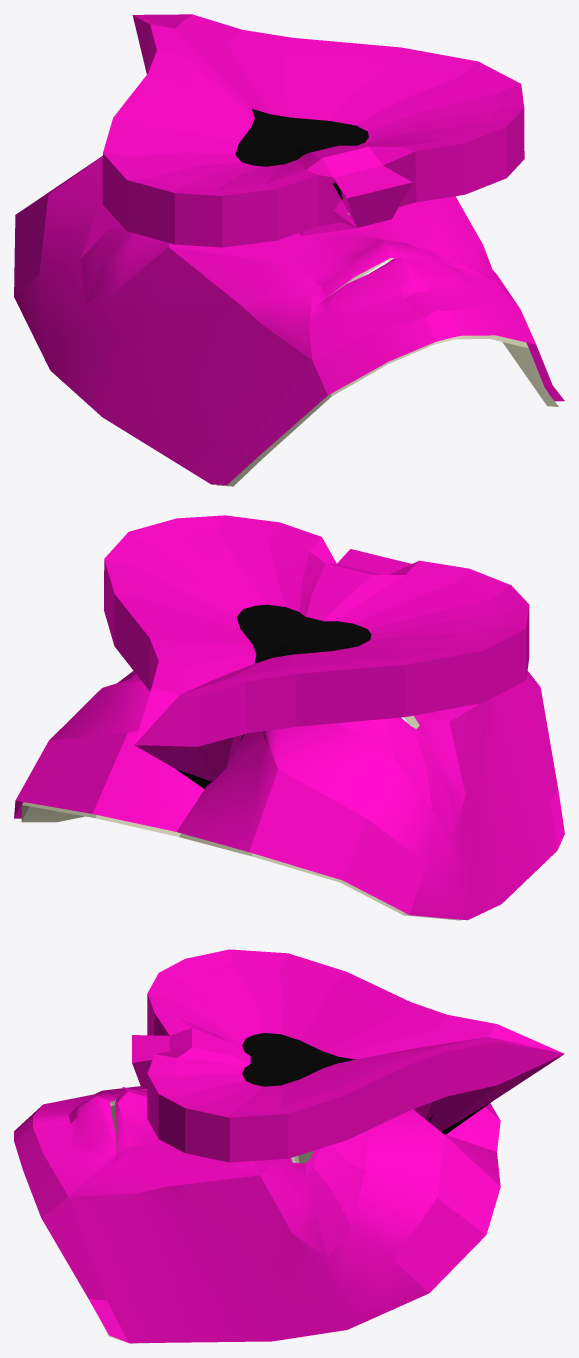
The model's file is Base_Mesh_SpadeMask.fbx.
The picture shows the model from 3 angles, top to bottom: view 1: azimuth 30°, elevation 25°; view 2: azimuth 150°, elevation 25°; view 3: azimuth 270°, elevation 25°; orthographic projection. The views are drawn at different scales.
Visible parts, largest first — view 1: Outline_Spade, Spade_Mask; view 2: Outline_Spade, Spade_Mask; view 3: Outline_Spade, Spade_Mask.
Part boxes in pixels (bbox=[...]): Outline_Spade: bbox=[14, 14, 564, 484]; Spade_Mask: bbox=[216, 109, 558, 486]; Outline_Spade: bbox=[14, 515, 564, 920]; Spade_Mask: bbox=[21, 604, 461, 920]; Outline_Spade: bbox=[14, 949, 564, 1343]; Spade_Mask: bbox=[100, 1033, 492, 1343].
Bounding box in the file's own units: 87.08 × 55.05 × 115.
